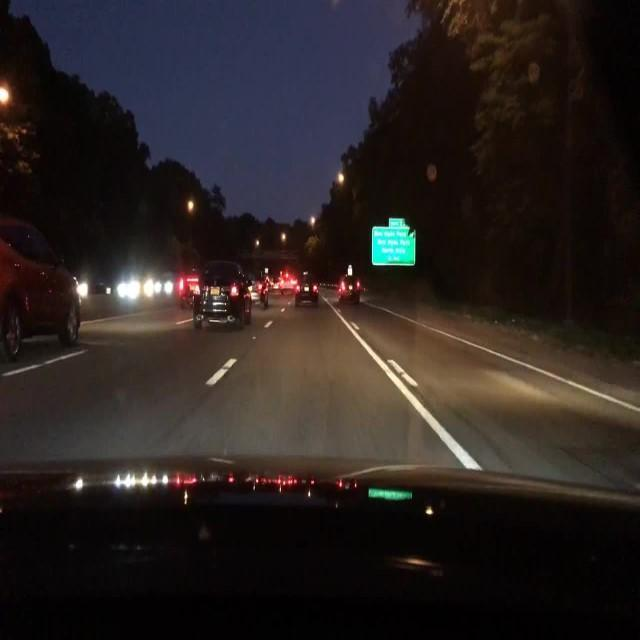normal: (0, 218, 83, 361), (183, 245, 261, 337), (293, 285, 318, 306)
